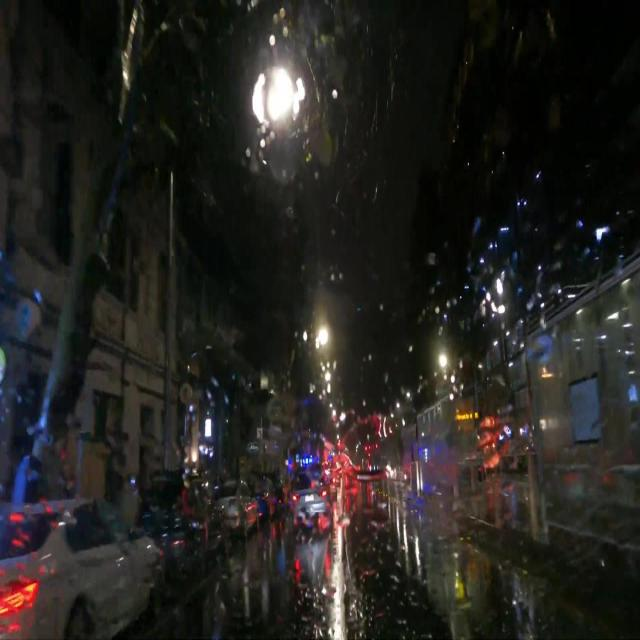Car: (10, 503, 145, 629), (287, 467, 330, 528)
